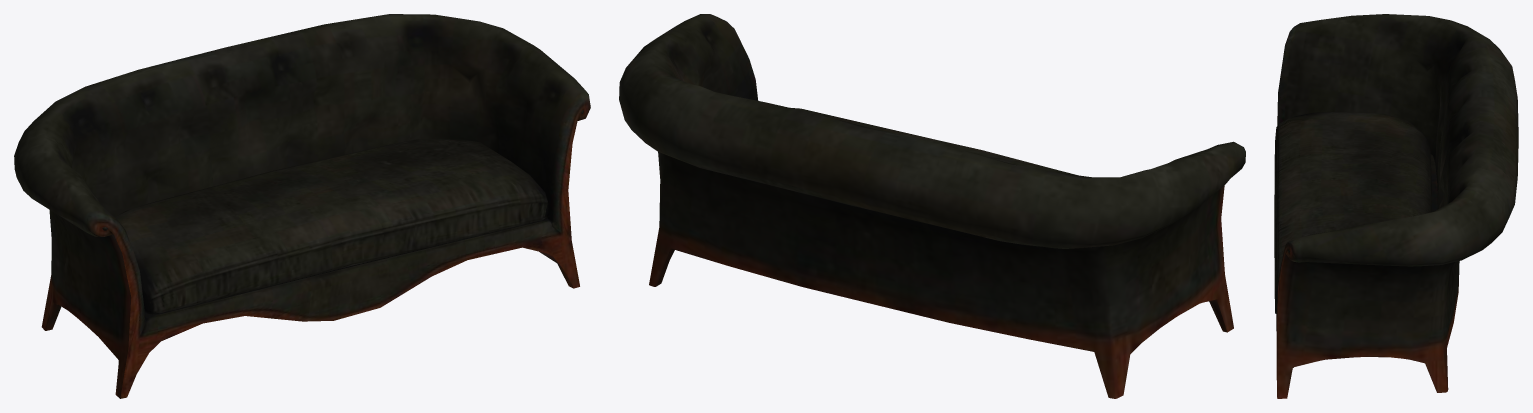
Rendered from sofa_02.lod1.glb.
3 renders of one model, left to right at view 1: azimuth 30°, elevation 25°; view 2: azimuth 150°, elevation 25°; view 3: azimuth 270°, elevation 25°, orthographic. The views are drawn at different scales.
Parts seen in each view (by area): view 1: sofa_02_Base, sofa_02_Seat; view 2: sofa_02_Base, sofa_02_Seat; view 3: sofa_02_Base, sofa_02_Seat.
Part boxes in pixels (left/top/right/bottom): sofa_02_Base: left=14, top=14, right=590, bottom=398; sofa_02_Seat: left=115, top=139, right=549, bottom=314; sofa_02_Base: left=619, top=14, right=1245, bottom=398; sofa_02_Seat: left=790, top=107, right=1077, bottom=175; sofa_02_Base: left=1276, top=14, right=1518, bottom=398; sofa_02_Seat: left=1274, top=112, right=1431, bottom=314.
Size of the model in its own units: 1.8 by 0.7095 by 0.8177.
1 material, 1 textured.
